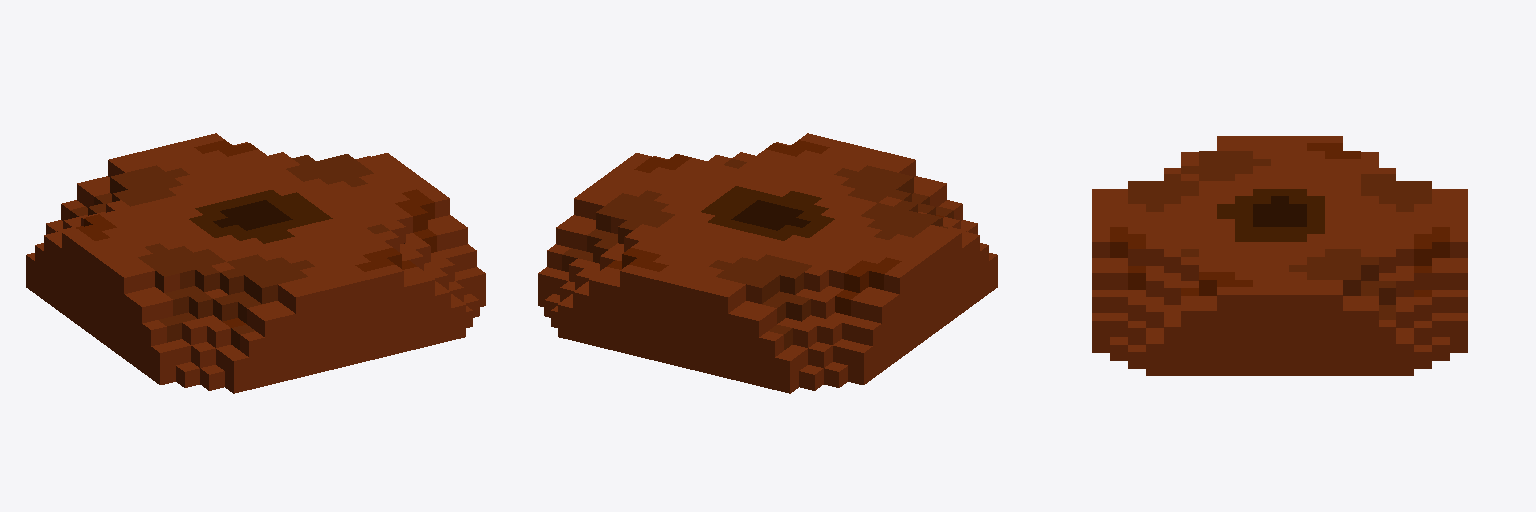
The picture shows the model from 3 angles: view 1: azimuth 30°, elevation 25°; view 2: azimuth 150°, elevation 25°; view 3: azimuth 270°, elevation 25°; orthographic projection.
Visible parts, largest first — view 1: Cube.915; view 2: Cube.915; view 3: Cube.915.
Boxes of the visible parts, <box> form: Cube.915: <box>26,133,485,393</box>; Cube.915: <box>538,133,997,393</box>; Cube.915: <box>1092,136,1467,375</box>.
Bounding box in the file's own units: 2.1 × 0.5 × 2.1.
1 materials, 1 textured.